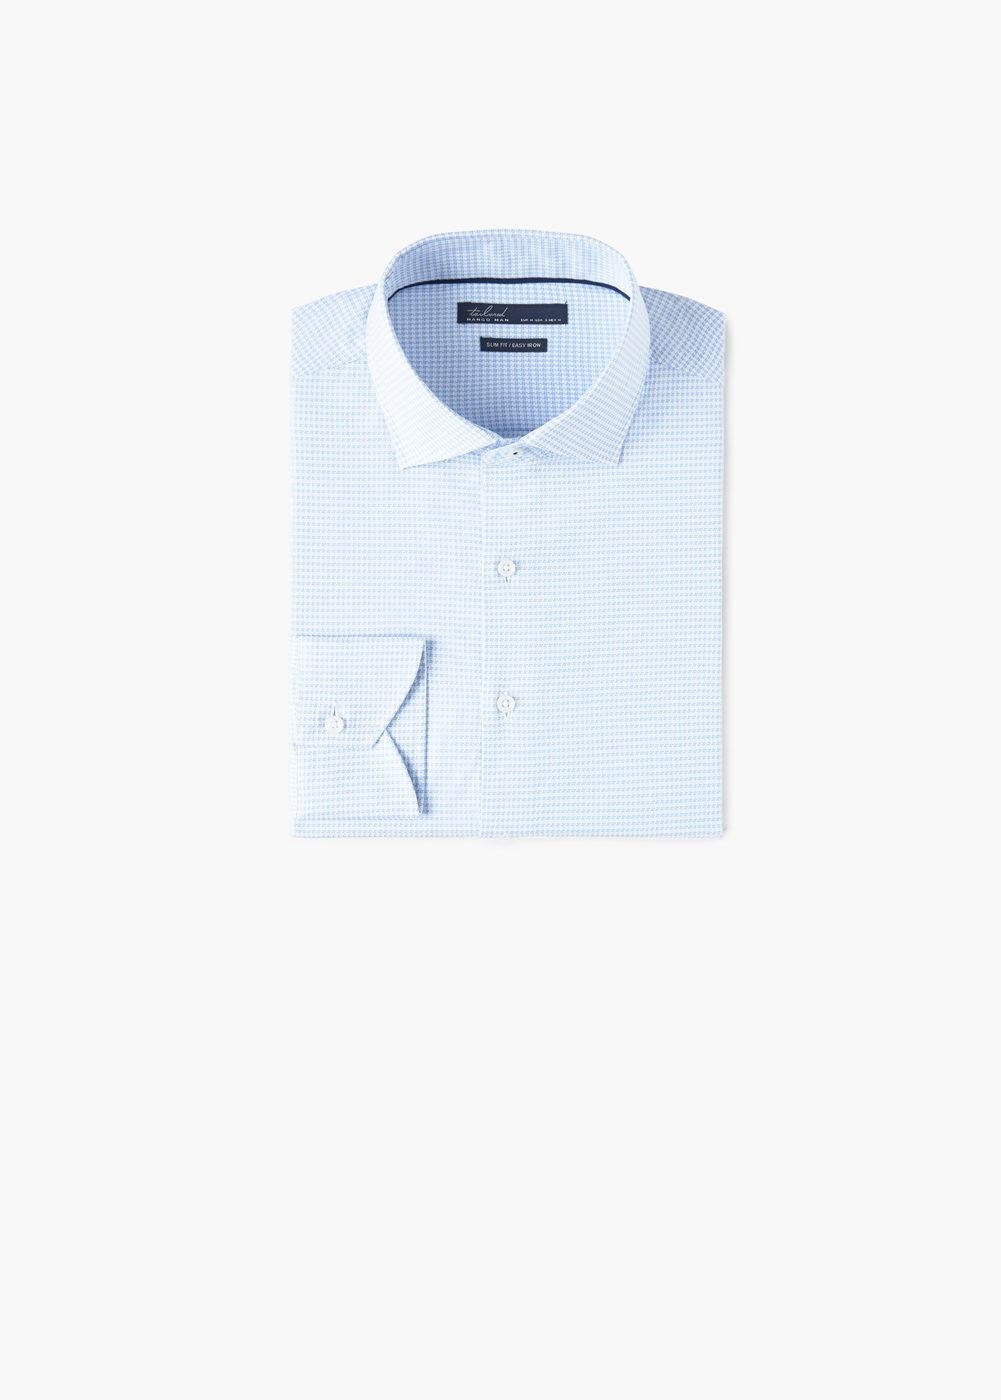teeshirt: (253, 215, 760, 878)
